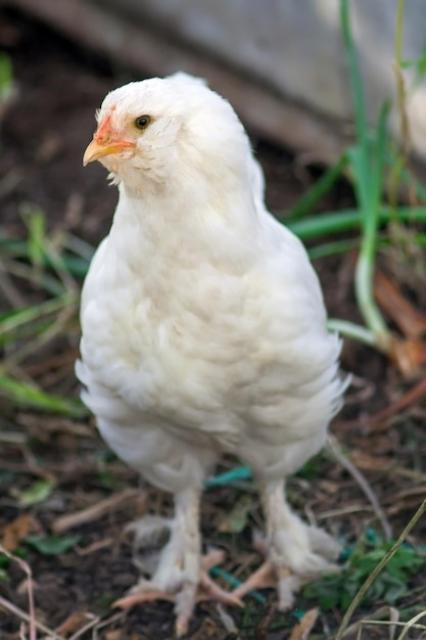Chicken: (78, 73, 352, 634)
